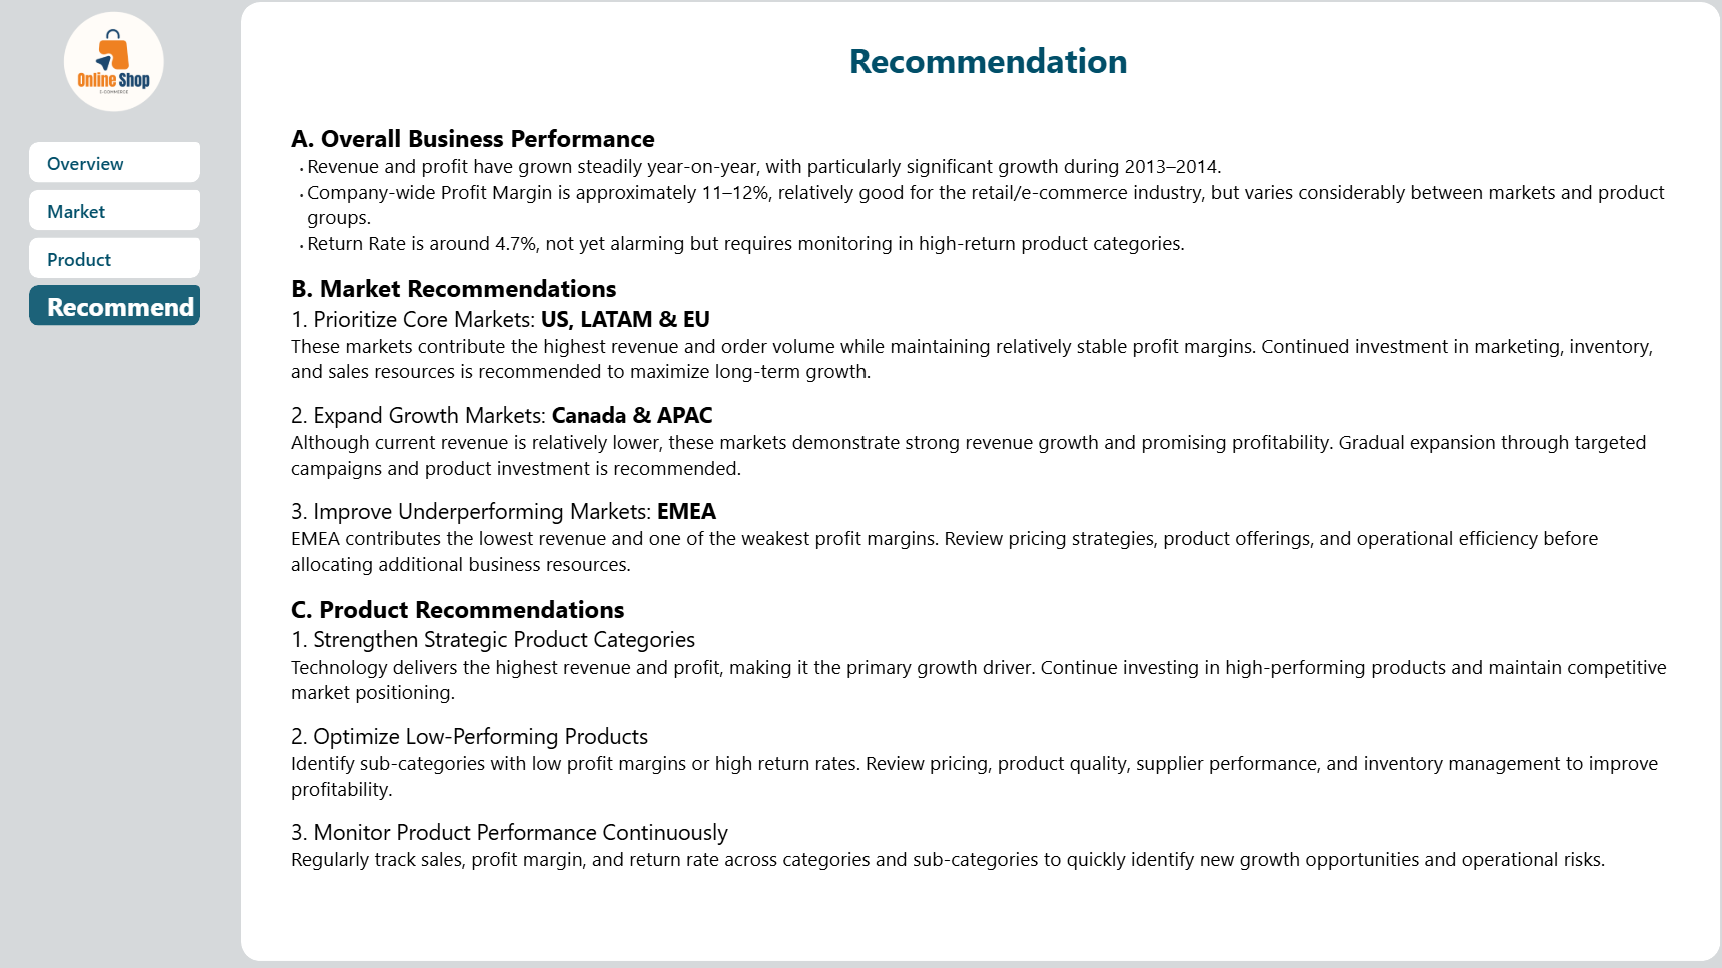

Layout of this report page (visuals, bound fields, positions):
{"tool":"powerbi","page":{"name":"Recommendation","canvas":[1920,1080],"ordinal":3},"visuals":[{"type":"shape","box":[269.4,7.2,1642.6,1065.7],"z":0},{"type":"textbox","box":[303.3,133.3,1573.3,946.7],"z":1000},{"type":"image","box":[16,8,224,128],"z":2000},{"type":"pageNavigator","box":[32.5,162.5,190,257.5],"z":3000},{"type":"textbox","box":[830,40,520,70],"z":4000}]}

Visuals, with their boxes in screenshot pixels (x1, y1, x2, y2), scaled from the page's 1920x1080 canvas onto the 1722x968 screenshot:
shape: select_region(242, 6, 1715, 962)
textbox: select_region(272, 119, 1683, 967)
image: select_region(14, 7, 215, 122)
pageNavigator: select_region(29, 146, 200, 376)
textbox: select_region(744, 36, 1211, 99)
